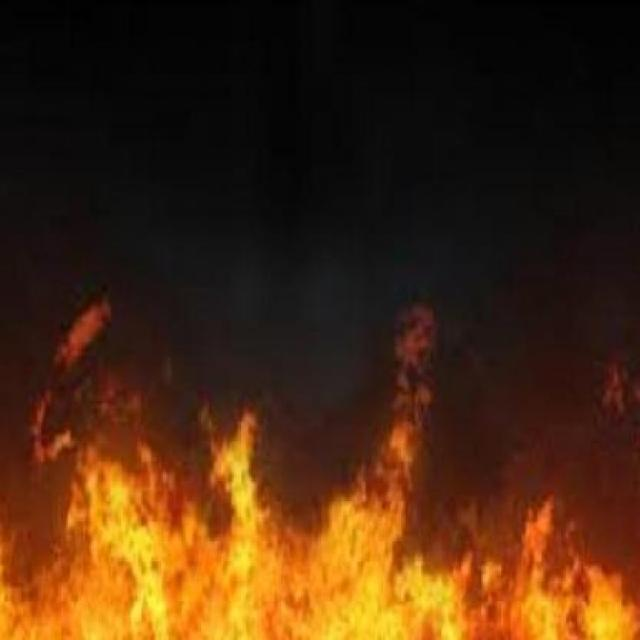Fire: (12, 298, 619, 636)
